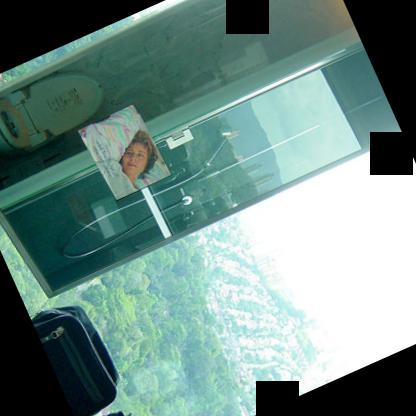suitcase: (29, 305, 119, 416)
